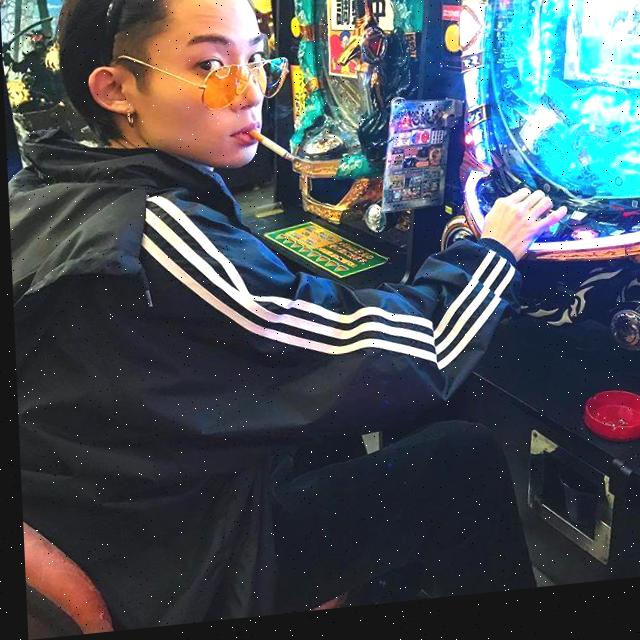cigarette: (248, 131, 294, 170)
